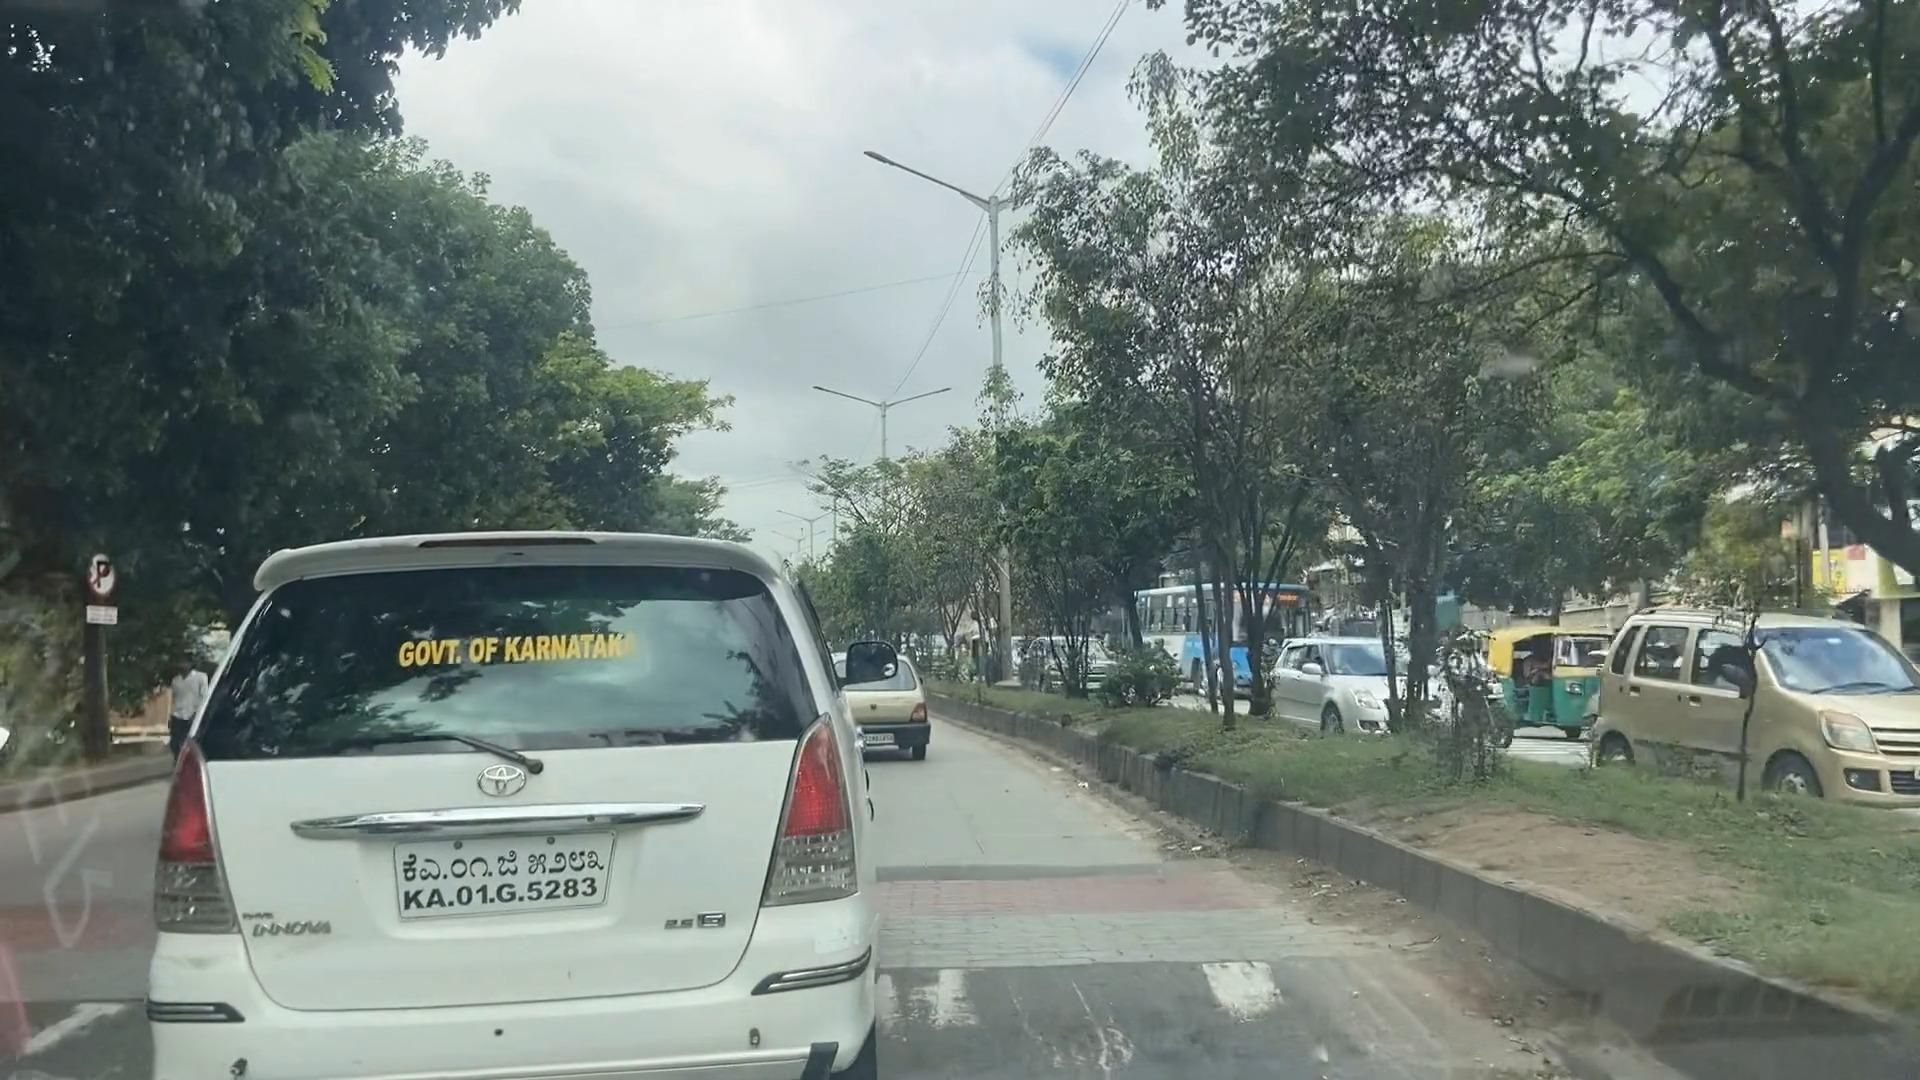LMV: (1436, 618, 1519, 753)
